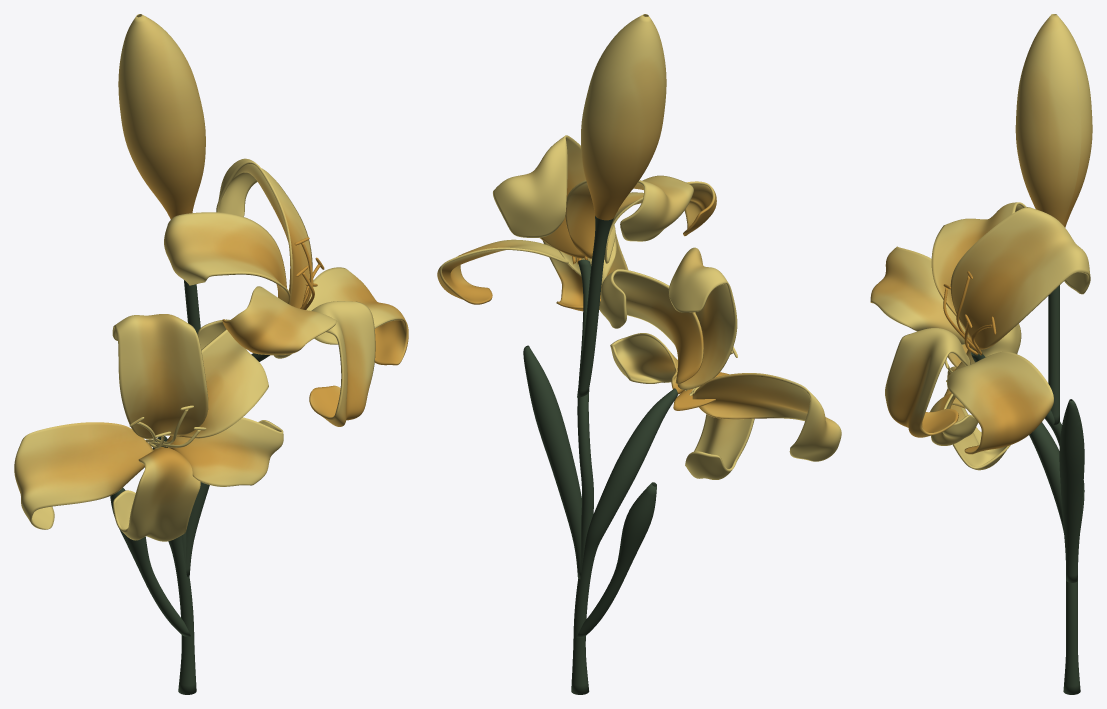
Rendered from lirio.glb.
3 renders of one model, left to right at view 1: azimuth 30°, elevation 25°; view 2: azimuth 150°, elevation 25°; view 3: azimuth 270°, elevation 25°, orthographic. The views are drawn at different scales.
Visible parts, largest first — view 1: Plano, Círculo.001; view 2: Plano, Círculo.001; view 3: Plano, Círculo.001.
Boxes of the visible parts, <box> form: Plano: <box>14,158,408,541</box>; Círculo.001: <box>110,14,324,694</box>; Plano: <box>437,135,841,479</box>; Círculo.001: <box>523,14,737,694</box>; Plano: <box>870,202,1090,470</box>; Círculo.001: <box>943,14,1092,694</box>.
Bounding box in the file's own units: 2.02 × 3.46 × 1.07.
2 materials, 2 textured.
